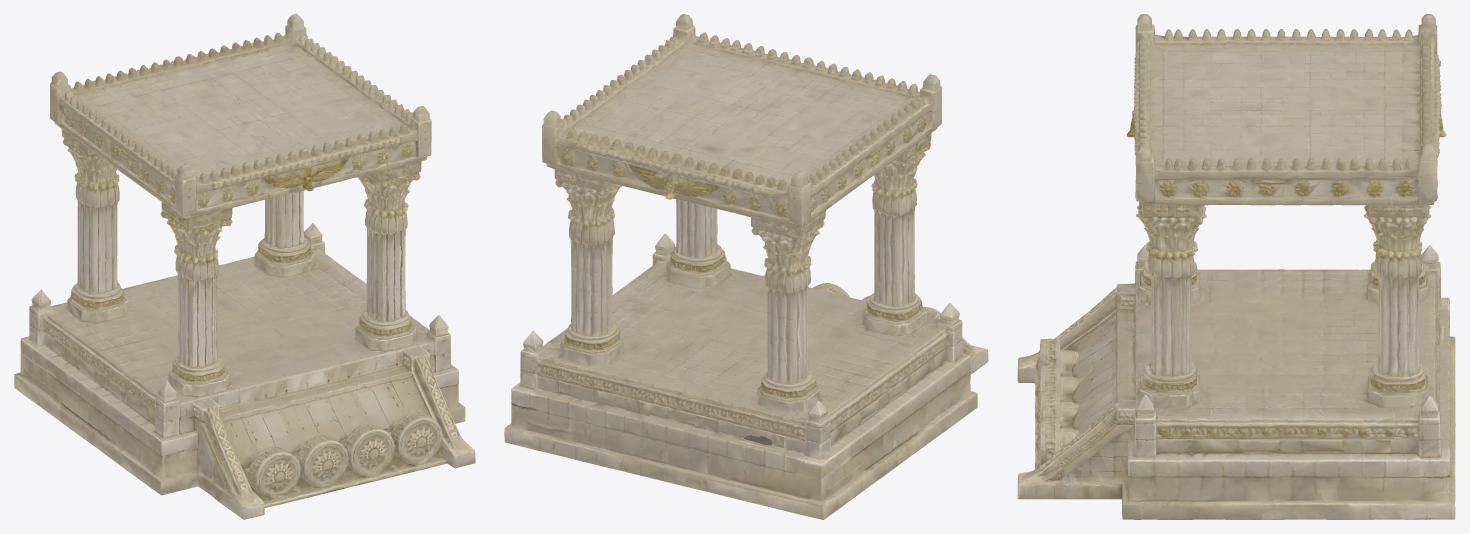
The model's file is StoneTerrace.glb.
3 renders of one model, left to right at view 1: azimuth 30°, elevation 25°; view 2: azimuth 150°, elevation 25°; view 3: azimuth 270°, elevation 25°, orthographic. The views are drawn at different scales.
Bounding box in the file's own units: 1.73 × 1.7 × 1.9.
1 material, 1 textured.
